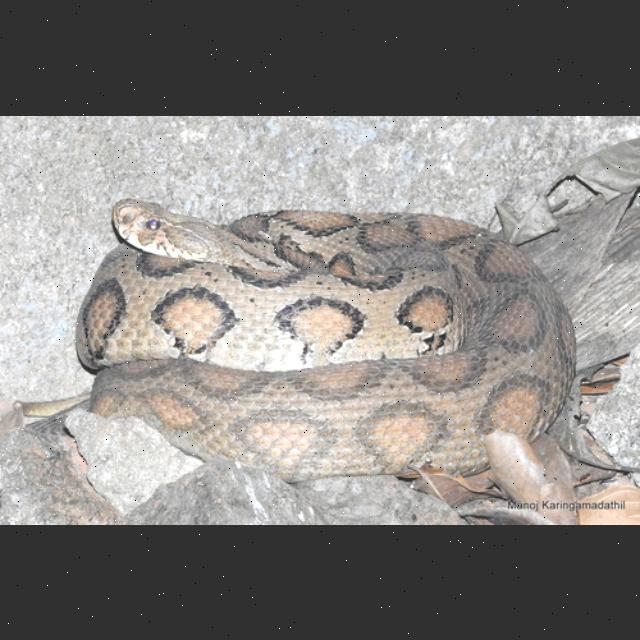snake: (12, 192, 582, 482)
